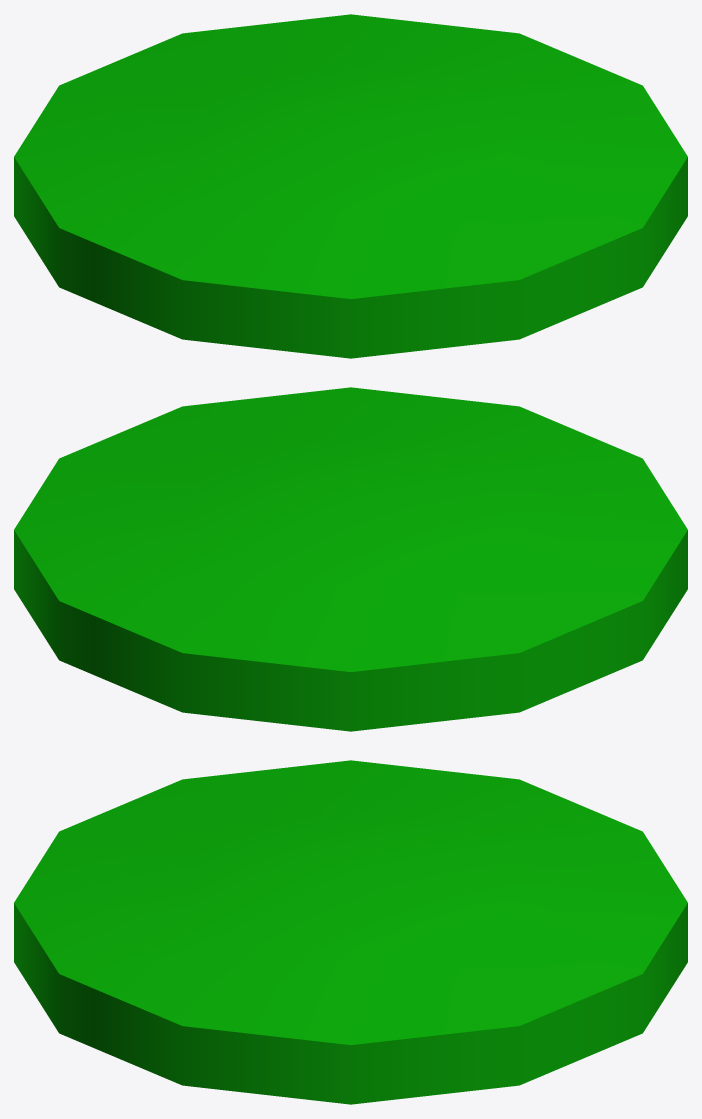
Rendered from Clock.fbx.
3 views of the same model, one above another, from view 1: azimuth 30°, elevation 25°; view 2: azimuth 150°, elevation 25°; view 3: azimuth 270°, elevation 25° (orthographic).
Visible parts, largest first — view 1: Cylinder009; view 2: Cylinder009; view 3: Cylinder009.
Part boxes in pixels (bbox=[...]): Cylinder009: bbox=[14, 14, 687, 358]; Cylinder009: bbox=[14, 387, 687, 731]; Cylinder009: bbox=[14, 760, 687, 1104].
Bounding box in the file's own units: 51.56 × 7.77 × 51.56.
